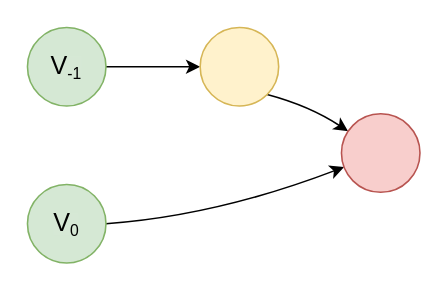
Image size: 447x290. Some labels were removed from this diagram. The centre of each missing label's shape, as x and y in pixels:
"V 1" goes at (239,66).
"V 2" goes at (380,152).
